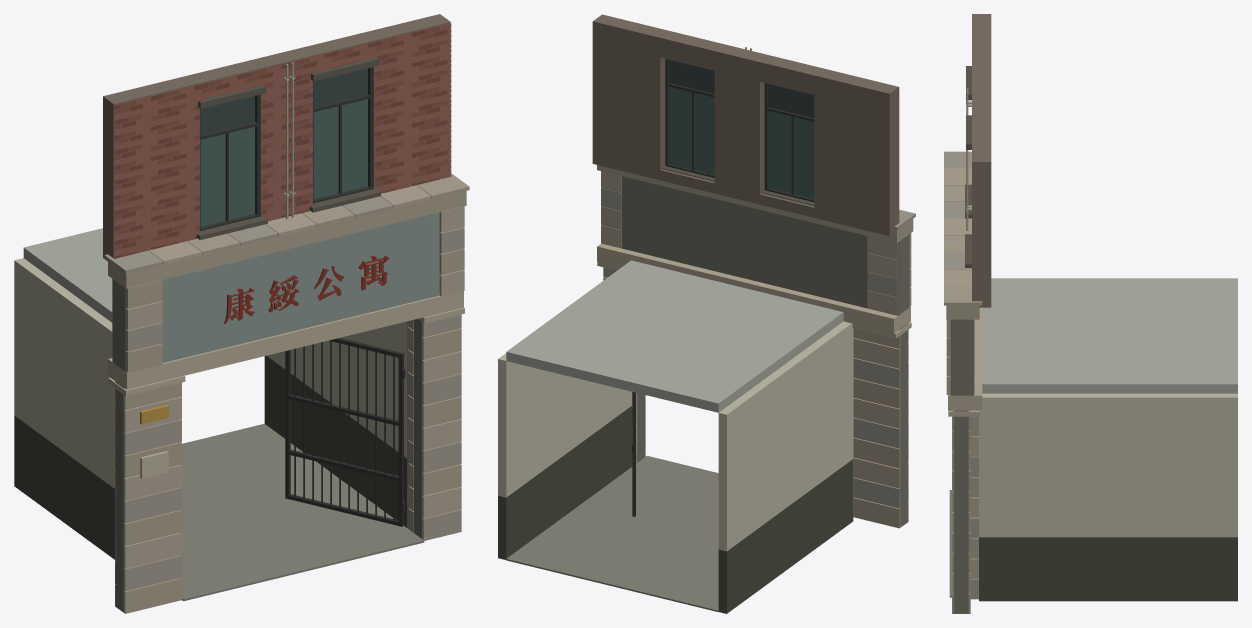
File: huangpu-cozy-apartments-494-lane-portal-lod.glb
3 views of the same model, side by side, from view 1: azimuth 30°, elevation 25°; view 2: azimuth 150°, elevation 25°; view 3: azimuth 270°, elevation 25° (orthographic). The views are drawn at different scales.
Visible parts, largest first — view 1: 康绥公寓淮海中路494弄入口与二层窗; view 2: 康绥公寓淮海中路494弄入口与二层窗; view 3: 康绥公寓淮海中路494弄入口与二层窗.
Part boxes in pixels (left/top/right/bottom): 康绥公寓淮海中路494弄入口与二层窗: left=14, top=14, right=469, bottom=613; 康绥公寓淮海中路494弄入口与二层窗: left=498, top=14, right=915, bottom=613; 康绥公寓淮海中路494弄入口与二层窗: left=944, top=14, right=1237, bottom=613.
Size of the model in its own units: 5.15 by 7.19 by 4.23.
